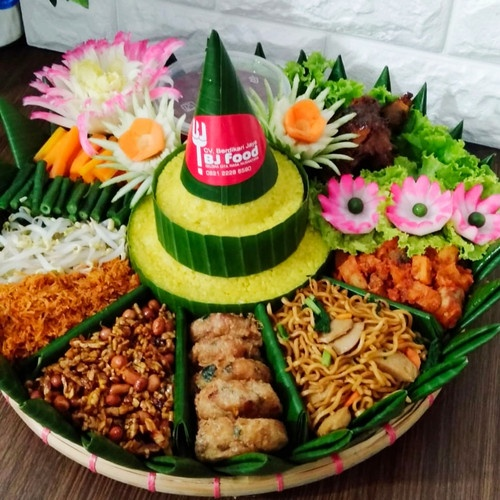tumpeng: (111, 28, 328, 295)
